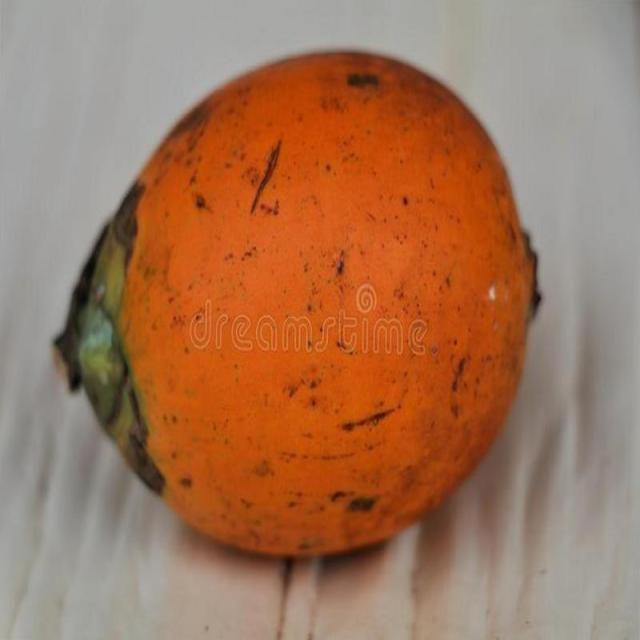good: (51, 49, 542, 563)
